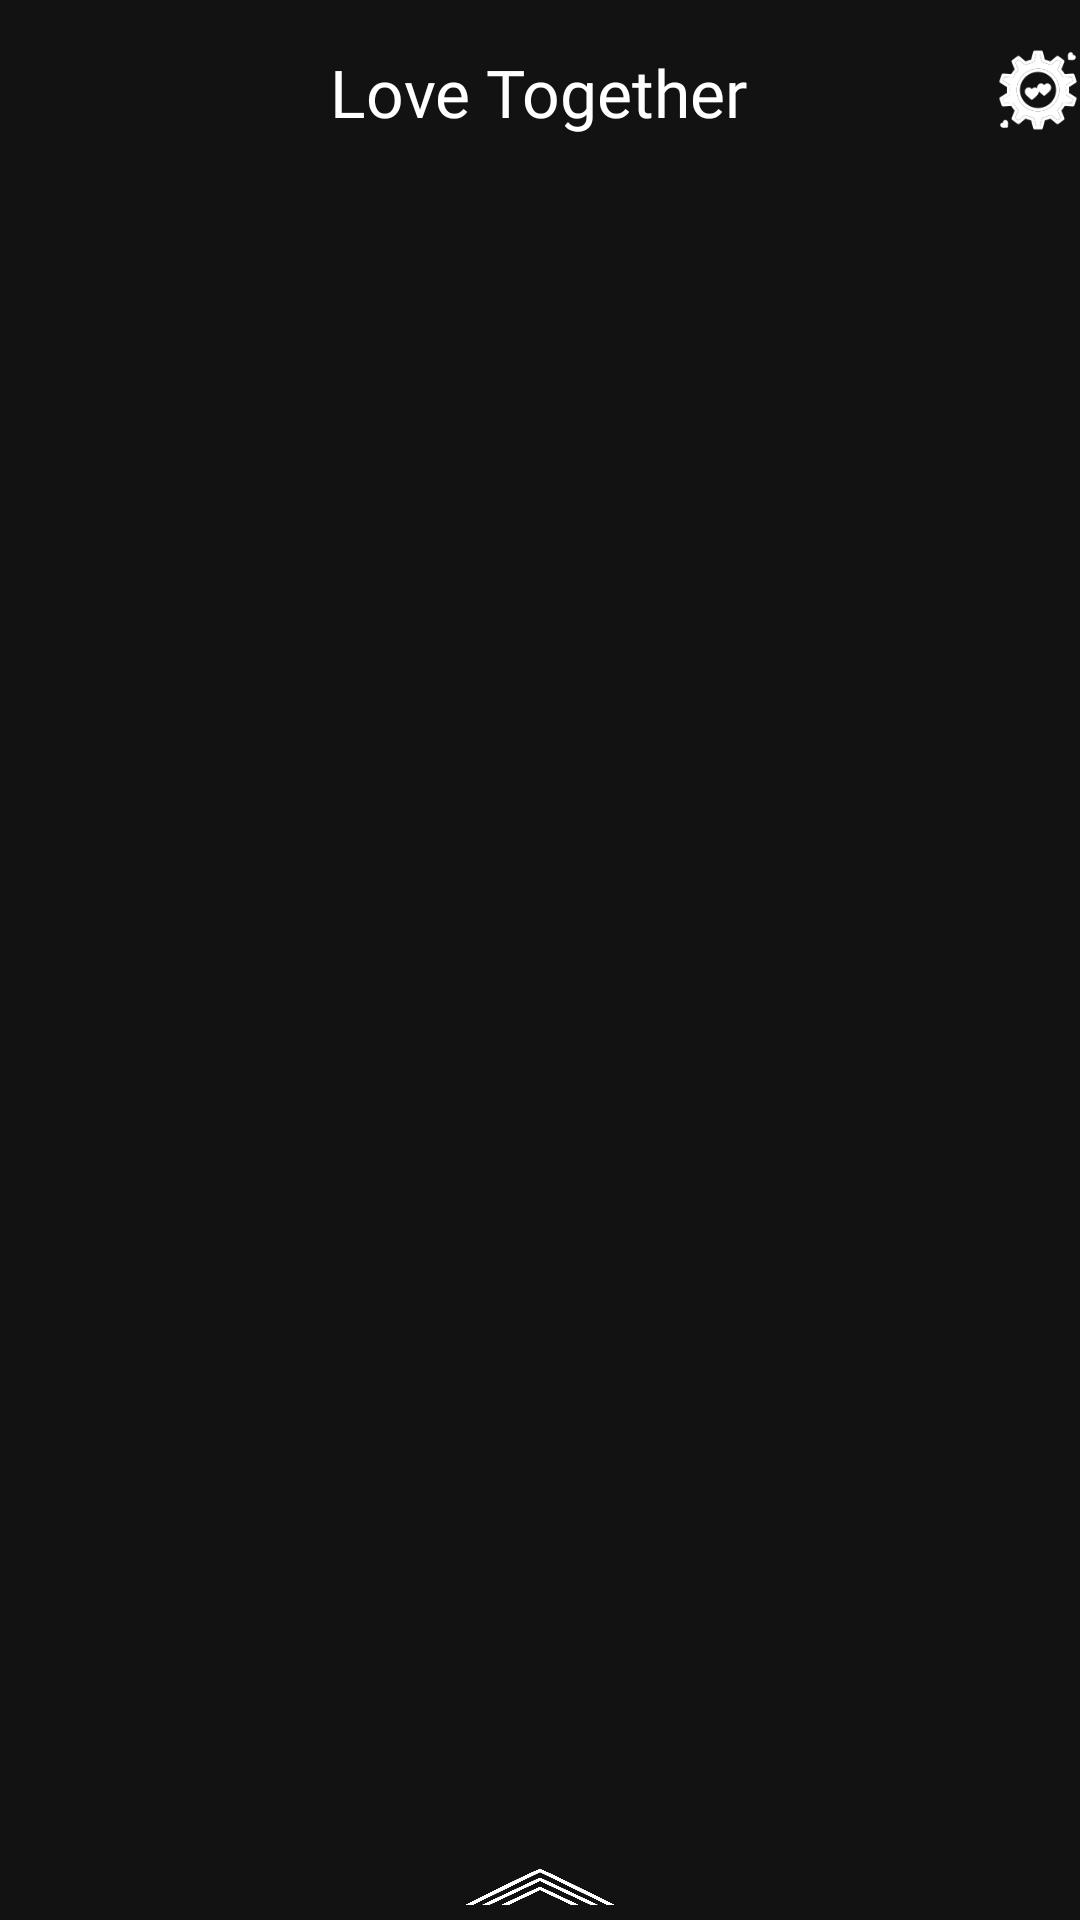

Icon click points for this 1080*1920 phone screenshot, format [x,y]:
setting: [1038,90]
slide up: [540,1887]
